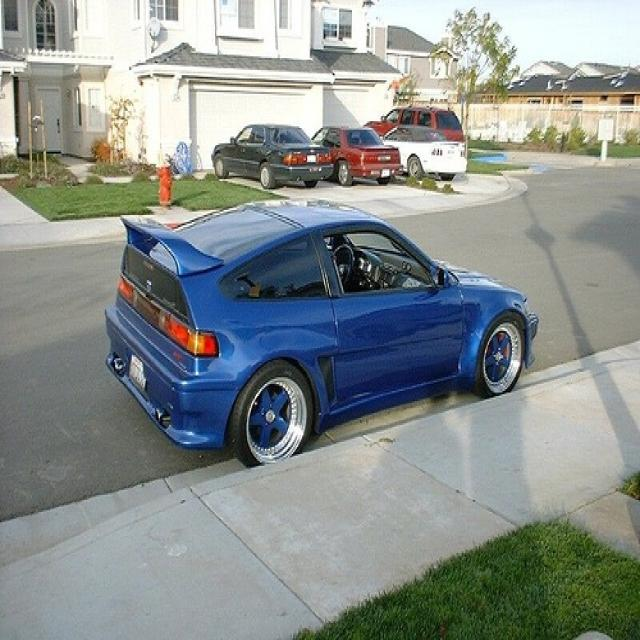car: (102, 201, 539, 471), (210, 121, 330, 193), (365, 102, 462, 164), (314, 126, 398, 188), (382, 126, 464, 181)
